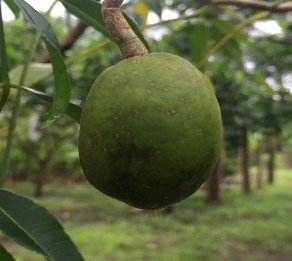Coc: (76, 50, 223, 213)
